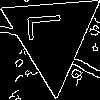L: (27, 11, 70, 42)
